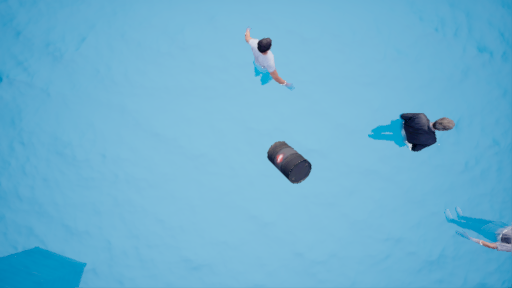person: (234, 24, 290, 94), (358, 112, 446, 153), (450, 197, 512, 252)
